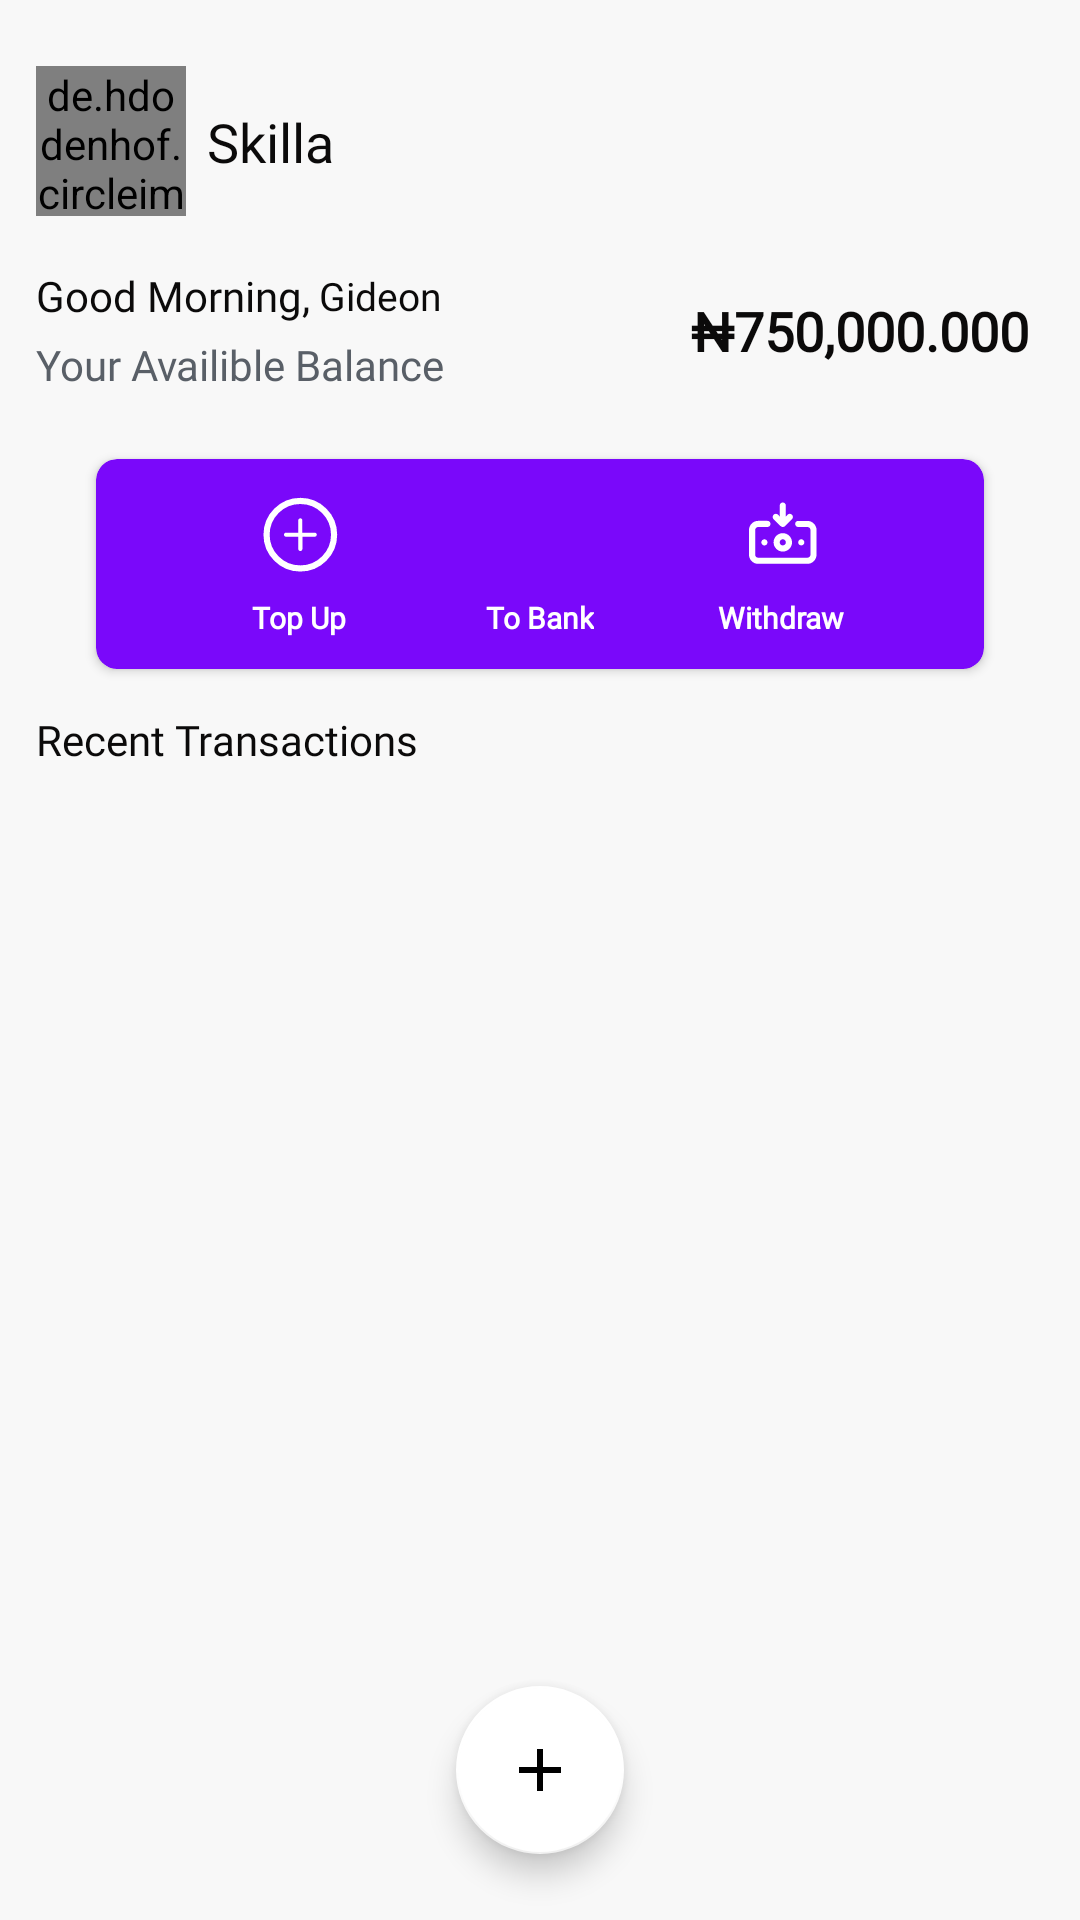

Icon bounding boxes for this 1080px×1920px phone screenshot, format (x1, y1, x2, y2):
add: (456, 1686, 624, 1854)
